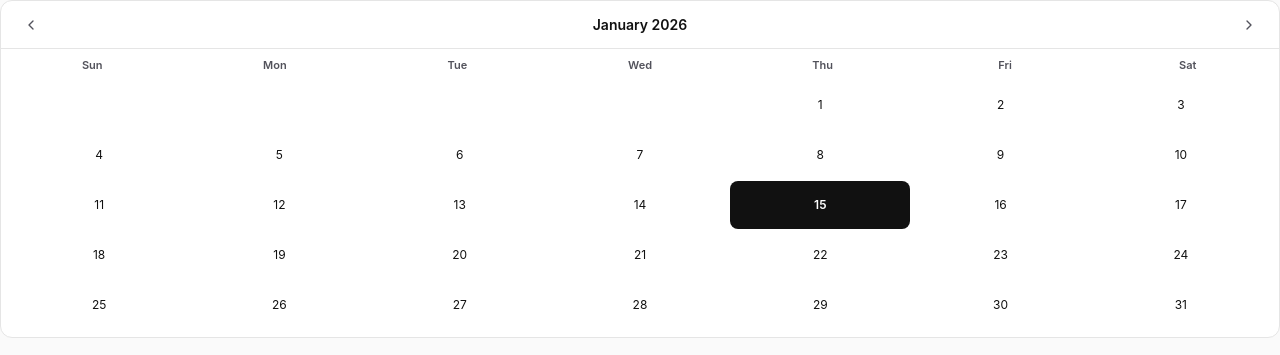
Scenario: MiniCalendar › wraps year when navigating before January
Click the button named "Previous month": point(31, 24) left=17, top=10, right=45, bottom=38
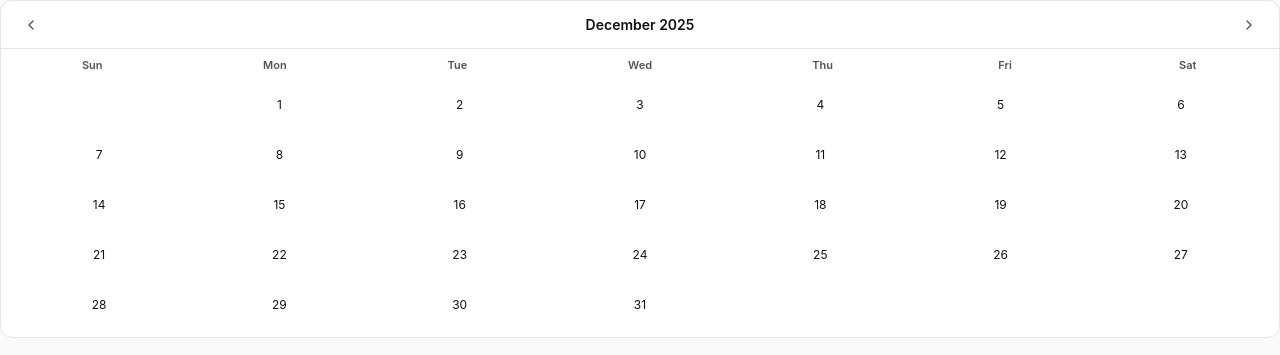
Expected: the text "December 2025" is shown, left=586, top=14, right=694, bottom=35
